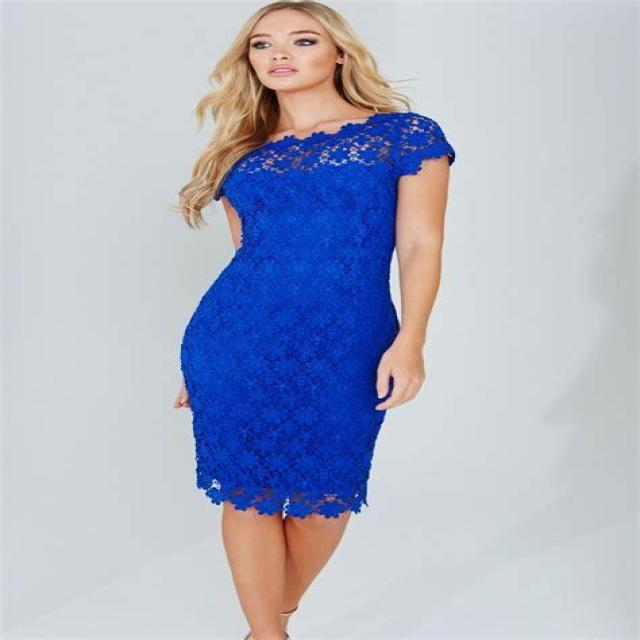dress: (181, 112, 454, 513)
